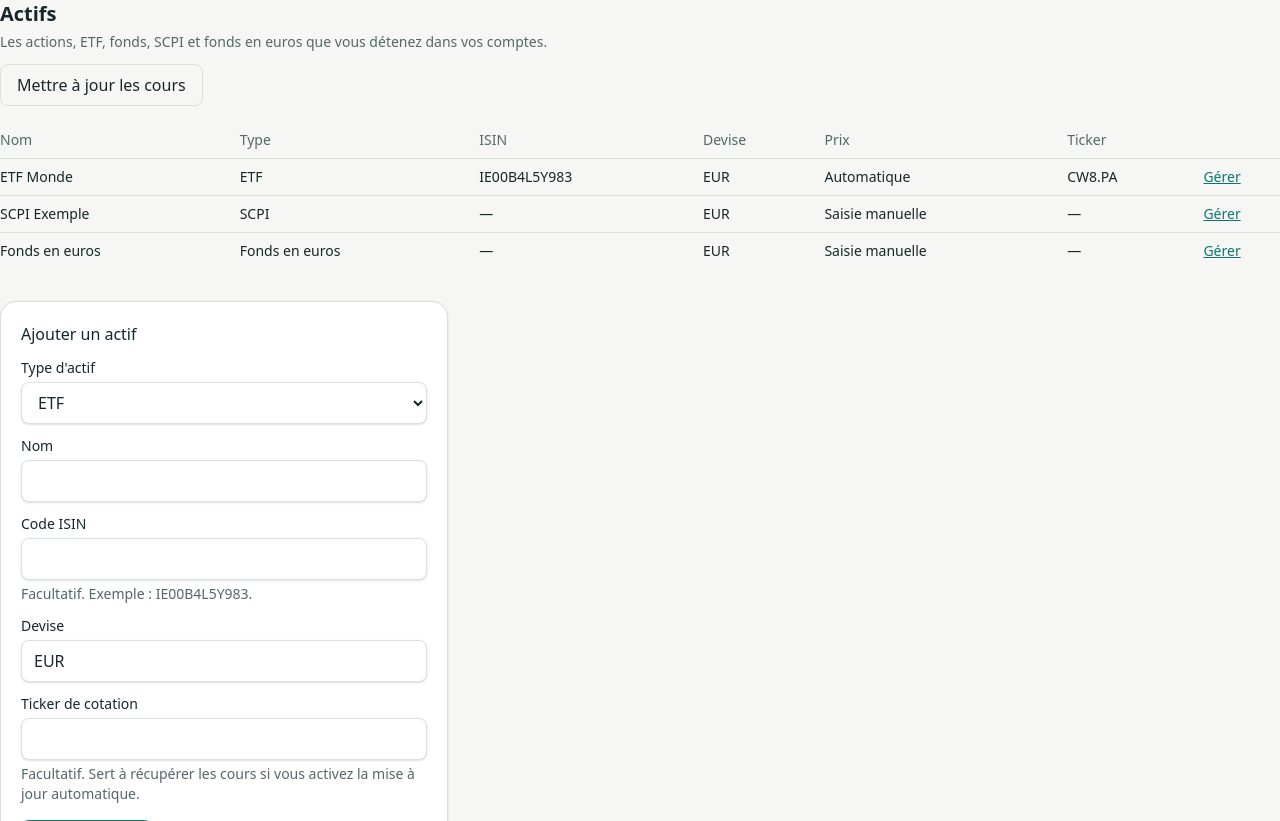
Test: ticker › dit quand aucun ticker n’est trouvé
The width and height of the screenshot is (1280, 821).
Click the button "Gérer" in the row of "ETF Monde" at (1222, 177), box [1203,167,1241,187]
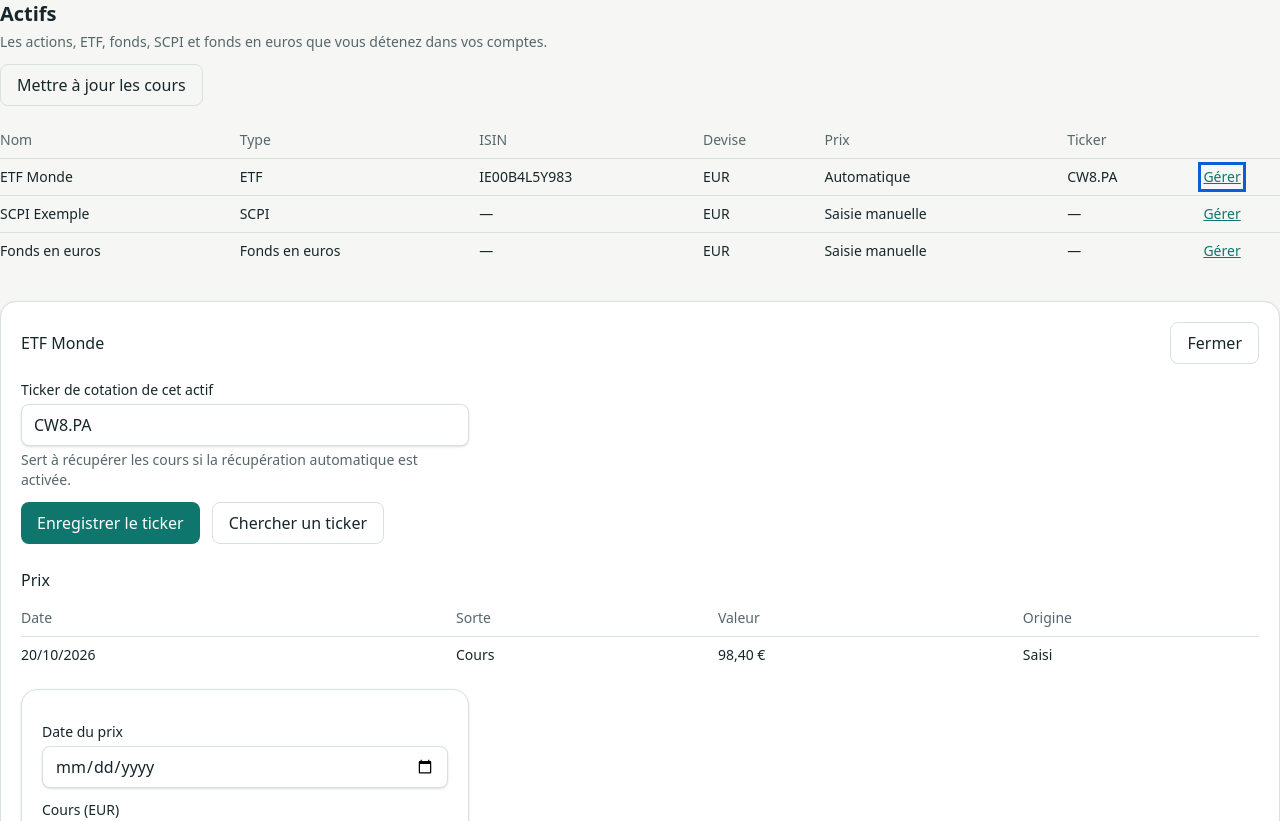
Click the button "Chercher un ticker" at (298, 523), box [212,502,384,544]
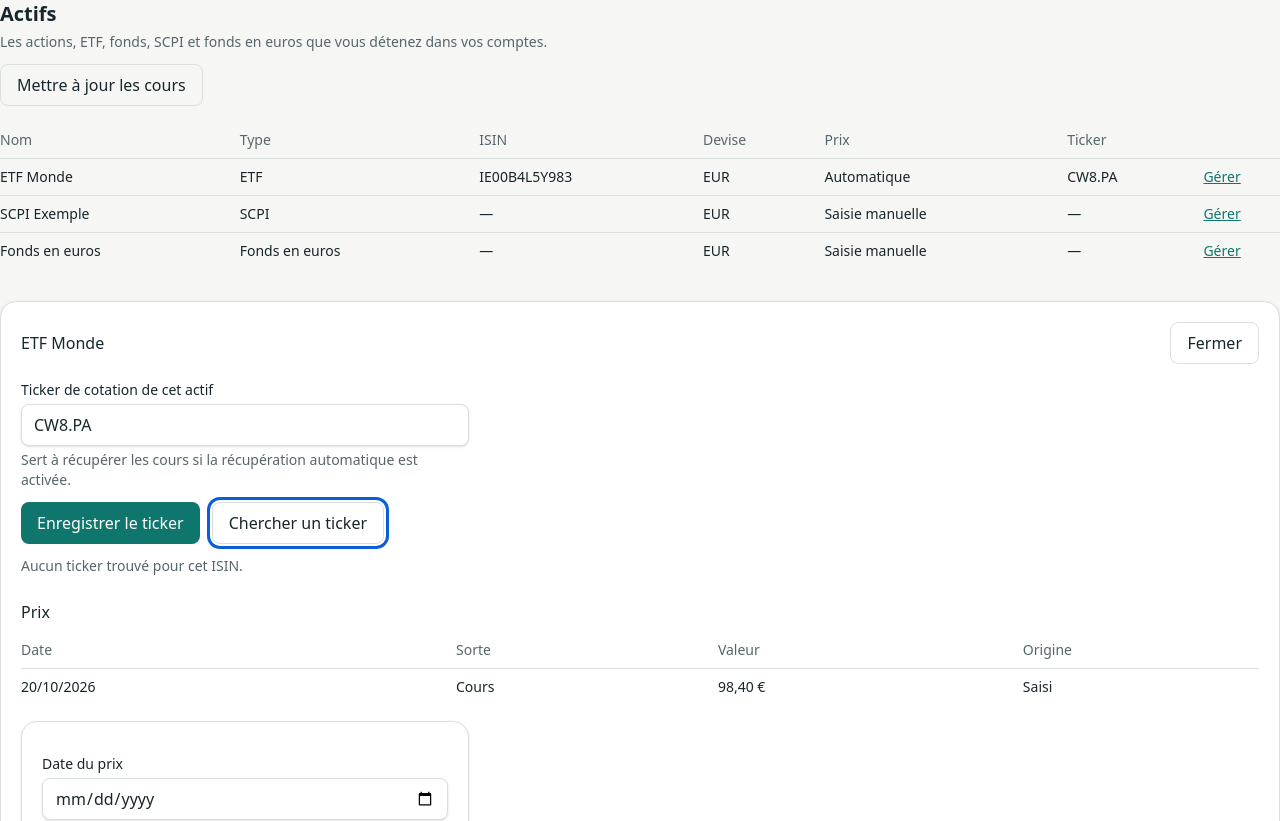
Expected: the text "Aucun ticker trouvé pour cet ISIN." is shown, [21,556,243,575]
